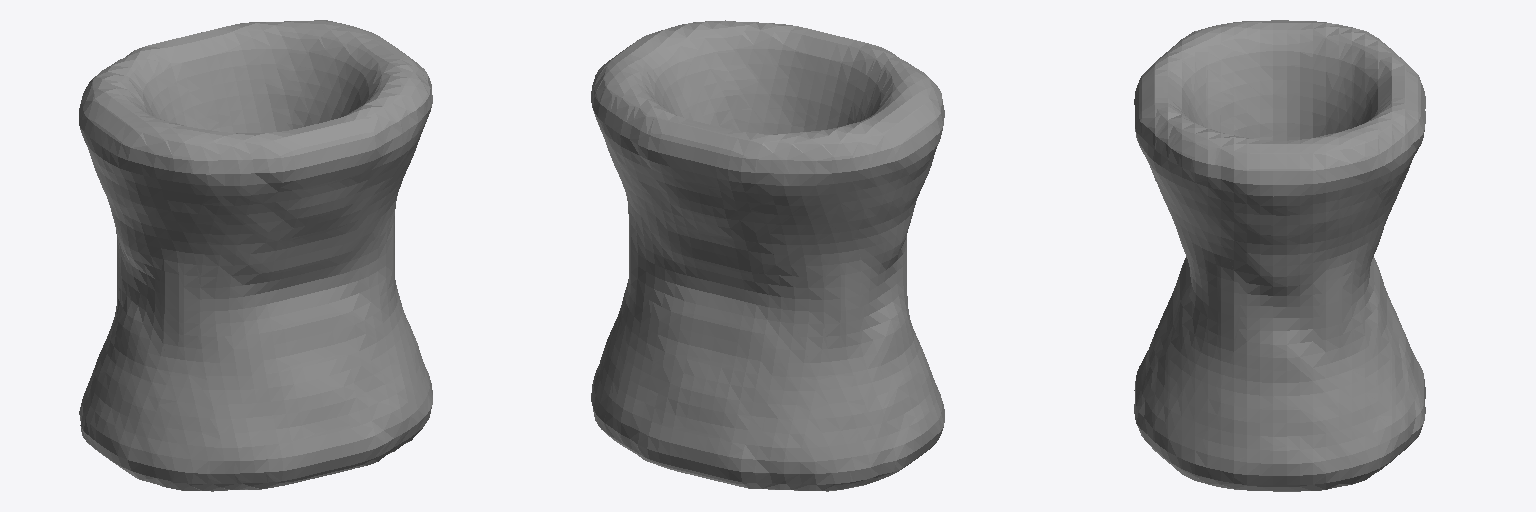
URDF robot description (cube.urdf):
<?xml version="0.0" ?> 
<robot name="cube.urdf"> 
<link name="legobrick"> 
<contact> 
<lateral_friction value="5.0"/> 
<rolling_friction value="0.0"/> 
<contact_cfm value="0.0"/> 
<contact_erp value="1.0"/> 
</contact> 
<inertial> 
<origin rpy="0 0 0" xyz="0.0 0.0 0.0"/> 
<mass value=".01"/> 
<inertia ixx="1" ixy="0" ixz="0" iyy="1" iyz="0" izz="1"/> 
</inertial> 
<visual> 
<origin rpy="1.570796 0 0" xyz="-0.028365603821777274 0.028339539661862787 -0.028344988891849863"/> 
<geometry> 
<mesh filename="S06_2.obj" scale="0.0006104544138064836 0.0006104544138064836 0.0006104544138064836"/> 
</geometry> 
<material name="yellow"> 
<color rgba="0.6 0.6 0.6 1"/> 
</material> 
</visual> 
<collision> 
<origin rpy="1.570796 0 0" xyz="-0.028365603821777274 0.028339539661862787 -0.028344988891849863"/> 
<geometry> 
<mesh filename="S06_2.obj" scale="0.0006104544138064836 0.0006104544138064836 0.0006104544138064836"/> 
</geometry> 
</collision> 
</link> 
</robot>

--- What the picture shows (computed from the rendered views, not written in the file) ---
The picture shows the robot from 3 angles, left to right: view 1: azimuth 30°, elevation 25°; view 2: azimuth 150°, elevation 25°; view 3: azimuth 270°, elevation 25°; orthographic projection.
Model cube.urdf with 1 links and 0 joints (none), rooted at legobrick, posed every joint at zero.
Visible links, largest first — view 1: legobrick; view 2: legobrick; view 3: legobrick.
Link boxes in pixels (bbox=[...]): legobrick: bbox=[79, 20, 432, 491]; legobrick: bbox=[591, 20, 944, 491]; legobrick: bbox=[1134, 20, 1425, 491].
Size in the robot's own frame: 0.056 by 0.0463 by 0.061 metres.
1 mesh visuals loaded from 1 distinct referenced files (1 OBJ).
